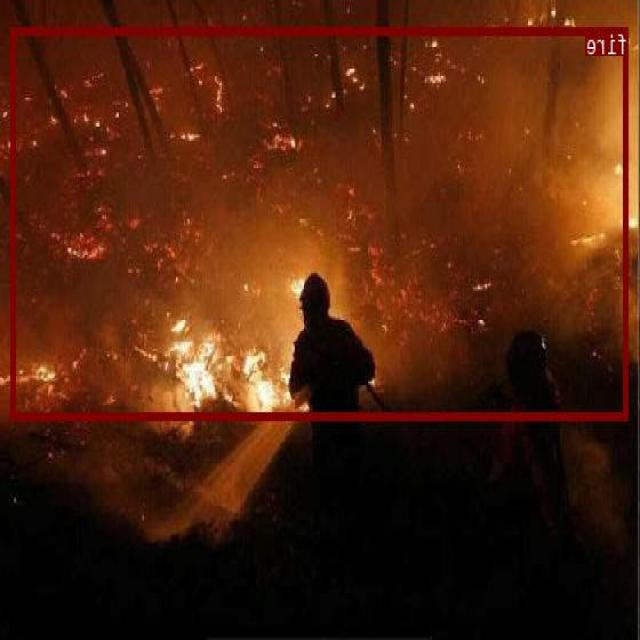fire: (12, 27, 629, 418)
